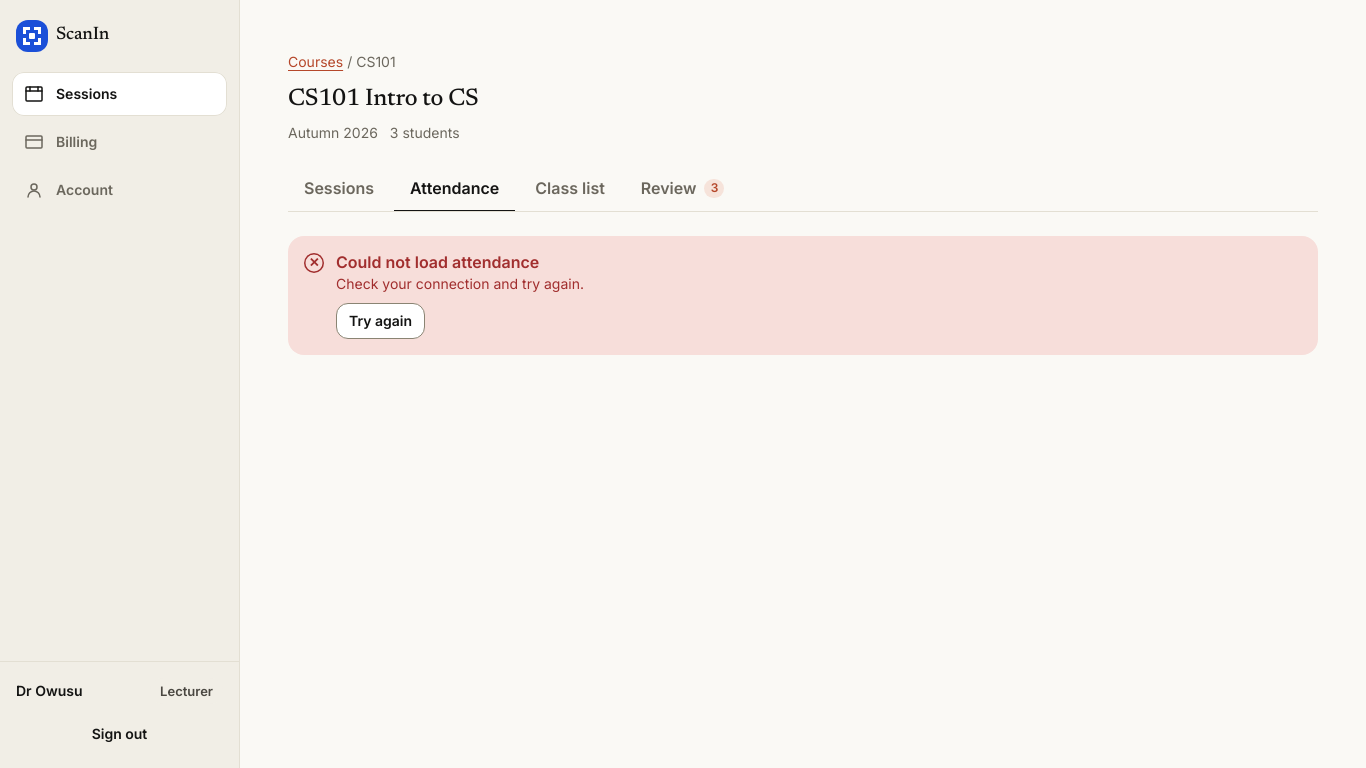
Test: lecturer course workspace › offers a retry when attendance cannot be loaded
The image size is (1366, 768).
Expected: the heading "Could not load attendance" is shown, [336,252,539,272]
Click the button "Try again" at (381, 321), box [336,303,425,339]
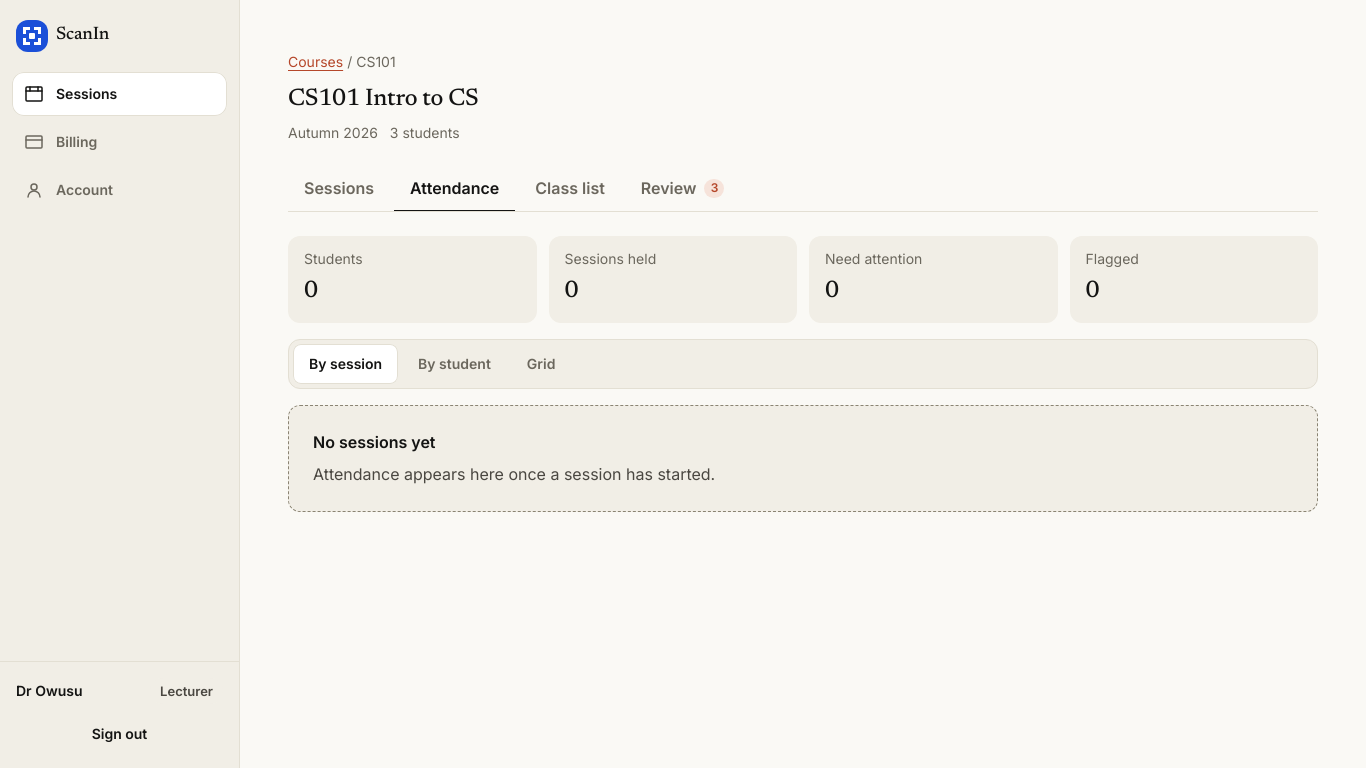
Expected: the text "No sessions yet" is shown, [313,430,436,454]
